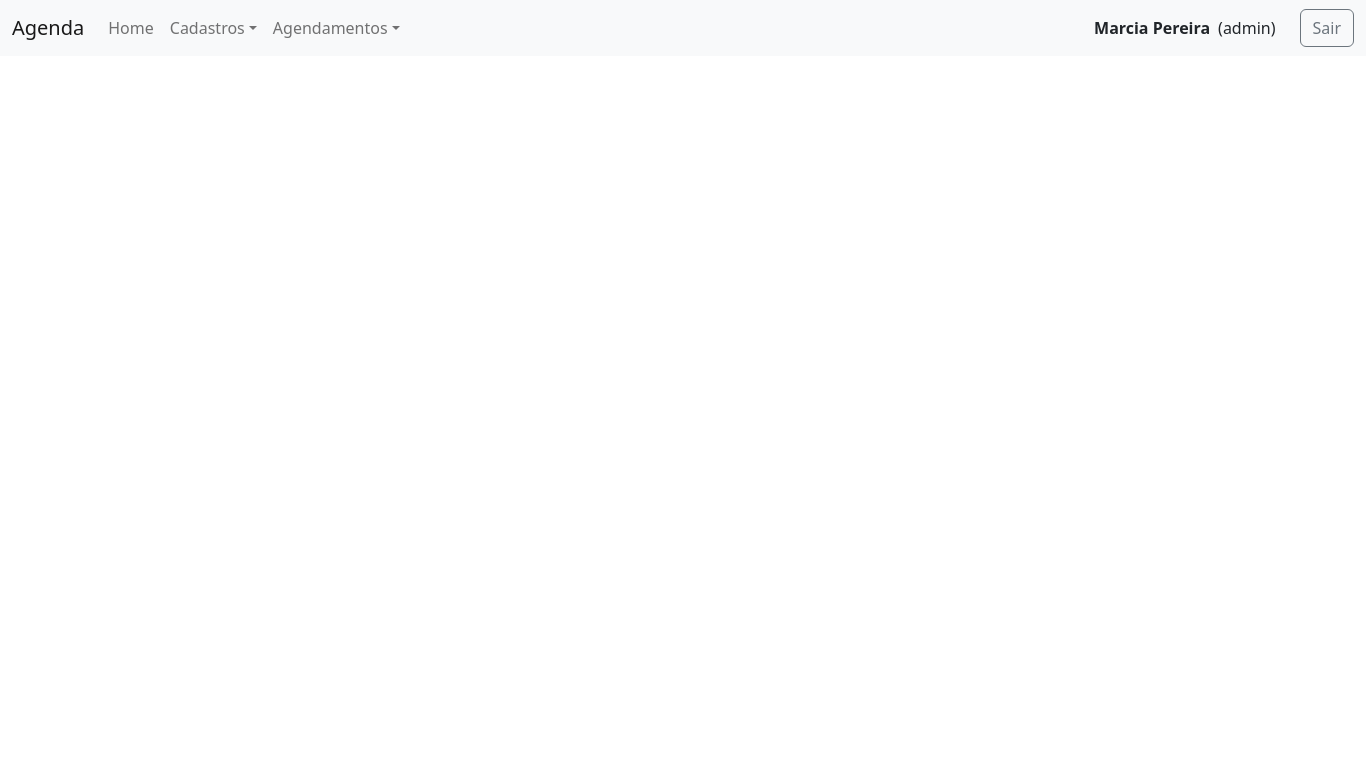
it: Home Page › Home Page: Agendamentos->Agendar Should have Title: "Fazer um agendamento"
Step 1. Click the button with id "navbarDropdownAgendamento" → coordinates (331, 28), box [273, 17, 388, 39]
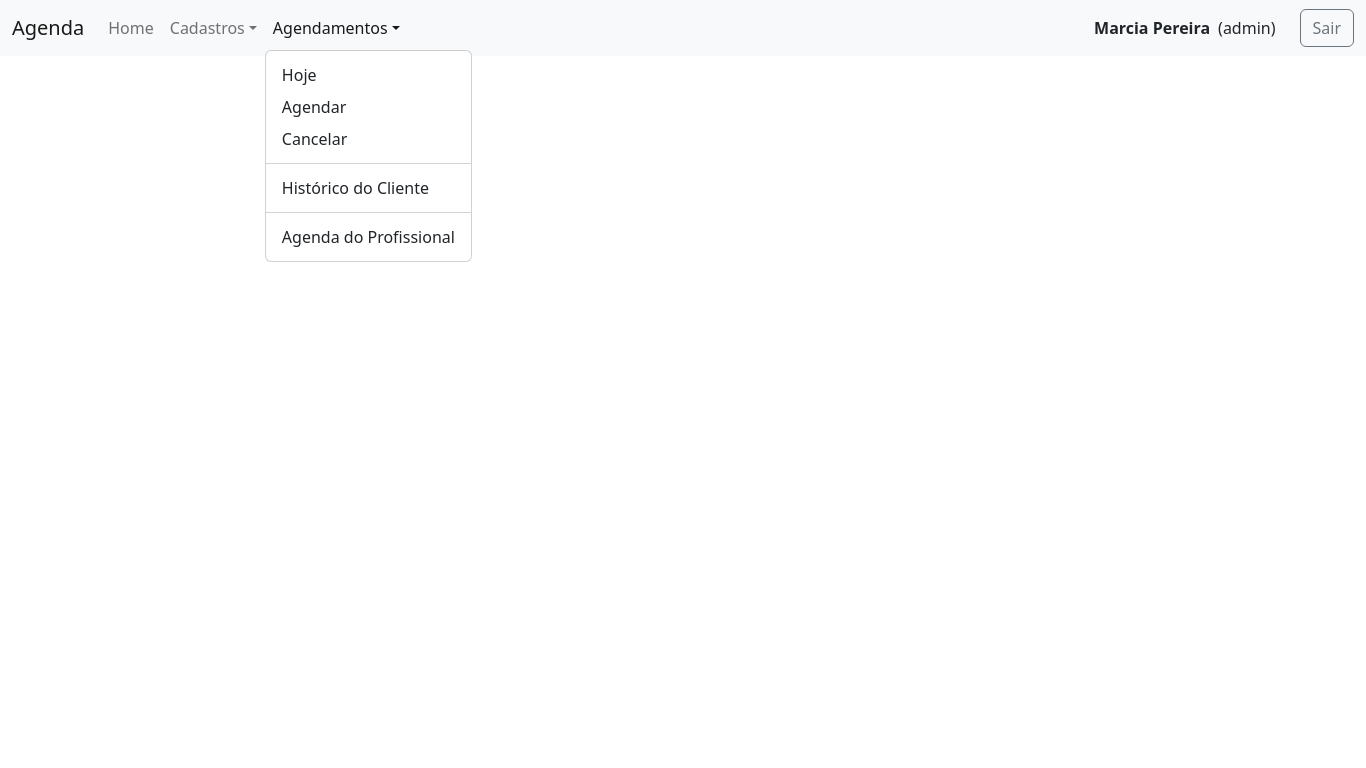
Step 2. Click the link with id "navItemAgendar" → coordinates (314, 107), box [282, 96, 346, 118]
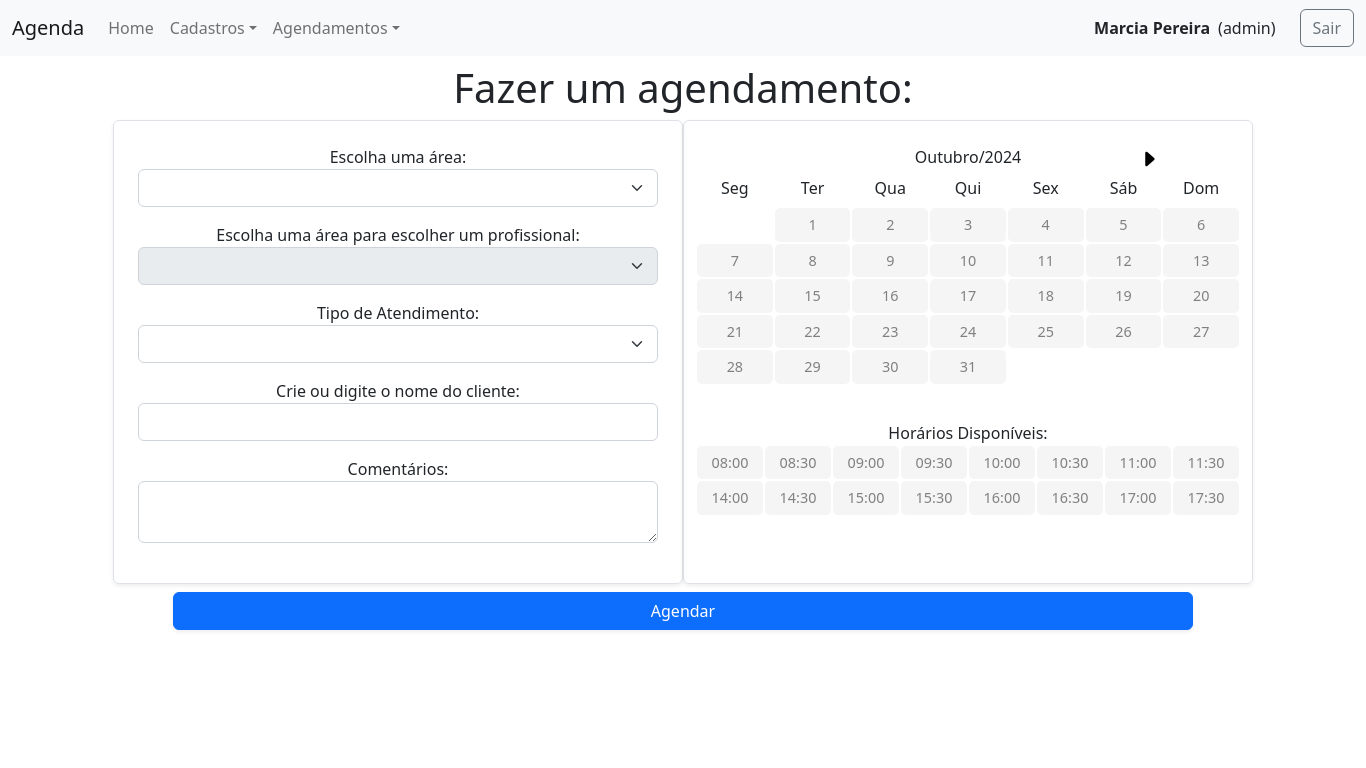
Now the text "Fazer um agendamento:" is shown, box [453, 60, 913, 115]
